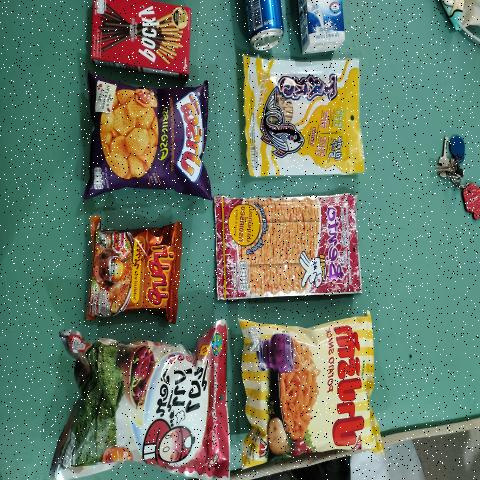bento_red: (222, 196, 358, 298)
mama: (96, 239, 176, 312)
paprika: (251, 316, 370, 458)
party_purple: (95, 90, 201, 186)
pokki: (90, 11, 192, 61)
taokaenoi: (67, 344, 223, 464)
taro_yellow: (253, 65, 357, 172)
